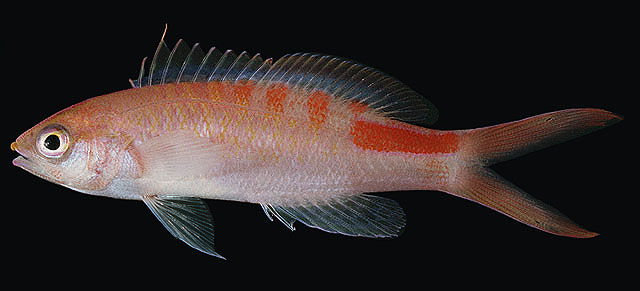fish: (10, 24, 622, 261)
